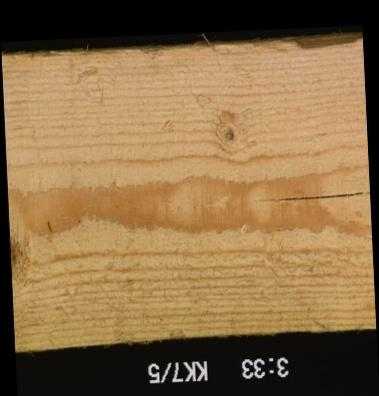sound_knot: (8, 200, 36, 283), (205, 106, 251, 155)
split: (250, 190, 368, 210)
wave: (181, 32, 356, 54)
